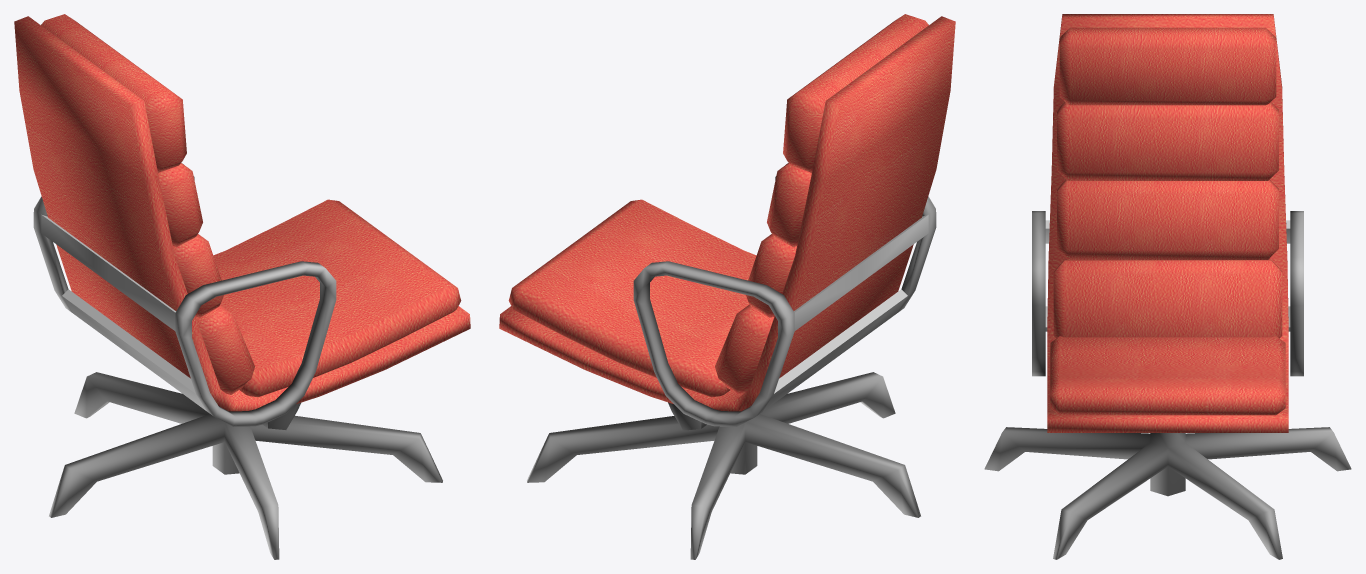
Rendered from LoungeChair.dae.
3 renders of one model, left to right at view 1: azimuth 30°, elevation 25°; view 2: azimuth 150°, elevation 25°; view 3: azimuth 270°, elevation 25°, orthographic. The views are drawn at different scales.
Parts seen in each view (by area): view 1: polySurface9, polySurface10, pCylinder1, polySurface11, polySurface4, polySurface7, polySurface5, polySurface6; view 2: polySurface9, polySurface10, pCylinder1, polySurface11, polySurface4, polySurface7, polySurface5, polySurface6; view 3: polySurface10, polySurface7, polySurface6, pCylinder1, polySurface4, polySurface5, polySurface9, polySurface11.
Part boxes in pixels (x1=…): polySurface9: x1=14, y1=16, x2=470, y2=411; polySurface10: x1=213, y1=199, x2=461, y2=397; pCylinder1: x1=49, y1=372, x2=442, y2=559; polySurface11: x1=33, y1=163, x2=336, y2=426; polySurface4: x1=41, y1=14, x2=186, y2=173; polySurface7: x1=195, y1=304, x2=254, y2=394; polySurface5: x1=158, y1=163, x2=202, y2=247; polySurface6: x1=173, y1=234, x2=223, y2=317; polySurface9: x1=499, y1=16, x2=955, y2=411; polySurface10: x1=508, y1=199, x2=756, y2=397; pCylinder1: x1=527, y1=372, x2=920, y2=559; polySurface11: x1=633, y1=163, x2=936, y2=426; polySurface4: x1=783, y1=14, x2=928, y2=173; polySurface7: x1=715, y1=304, x2=774, y2=394; polySurface5: x1=767, y1=163, x2=811, y2=247; polySurface6: x1=746, y1=234, x2=796, y2=317; polySurface10: x1=1050, y1=336, x2=1285, y2=415; polySurface7: x1=1053, y1=259, x2=1282, y2=338; polySurface6: x1=1057, y1=179, x2=1278, y2=259; pCylinder1: x1=984, y1=427, x2=1351, y2=559; polySurface4: x1=1059, y1=27, x2=1276, y2=105; polySurface5: x1=1057, y1=102, x2=1278, y2=180; polySurface9: x1=1047, y1=14, x2=1288, y2=432; polySurface11: x1=1032, y1=211, x2=1303, y2=376.
Size of the model in its own units: 1.16 by 1.4 by 1.14.
